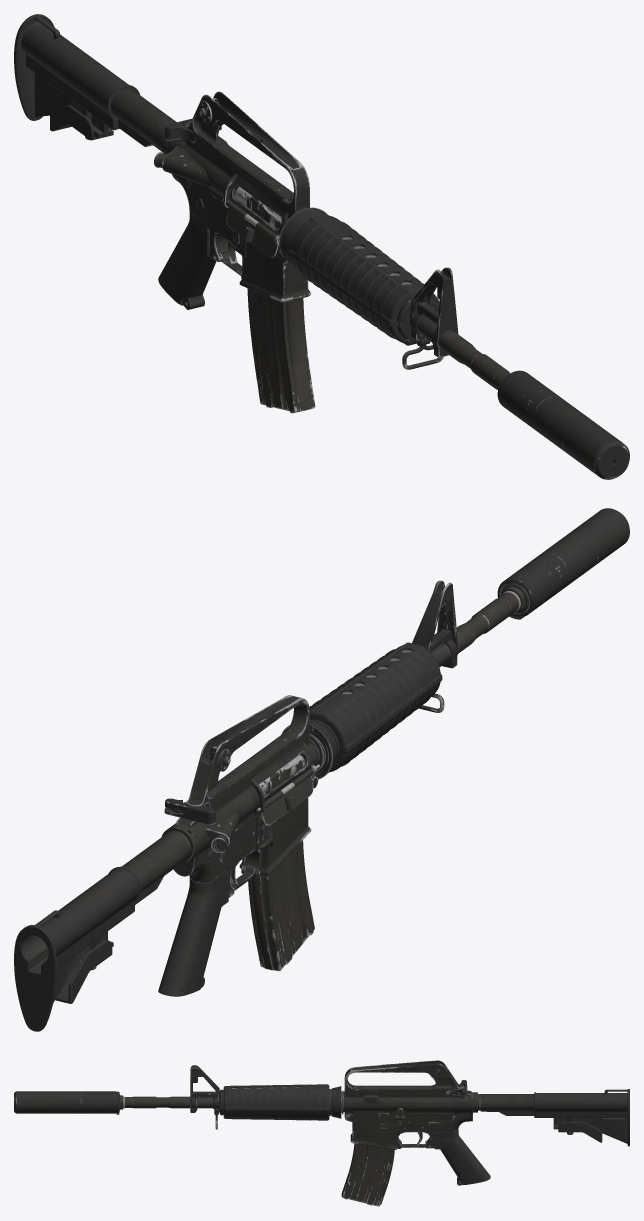
The model's file is m4-glb.glb.
3 views of the same model, one above another, from view 1: azimuth 30°, elevation 25°; view 2: azimuth 150°, elevation 25°; view 3: azimuth 270°, elevation 25° (orthographic). The views are drawn at different scales.
Parts seen in each view (by area): view 1: M4A1S_CS2, Magazine; view 2: M4A1S_CS2, Magazine, ChargingHandle; view 3: M4A1S_CS2, Magazine.
Boxes of the visible parts, x1,y1,x2,y2 form: M4A1S_CS2: [14, 14, 629, 479]; Magazine: [246, 193, 315, 413]; M4A1S_CS2: [14, 508, 629, 1031]; Magazine: [248, 757, 314, 971]; ChargingHandle: [164, 798, 216, 824]; M4A1S_CS2: [14, 1060, 629, 1185]; Magazine: [341, 1143, 394, 1206].
Size of the model in its own units: 0.0781 by 0.2994 by 1.18.
1 material, 1 textured.
